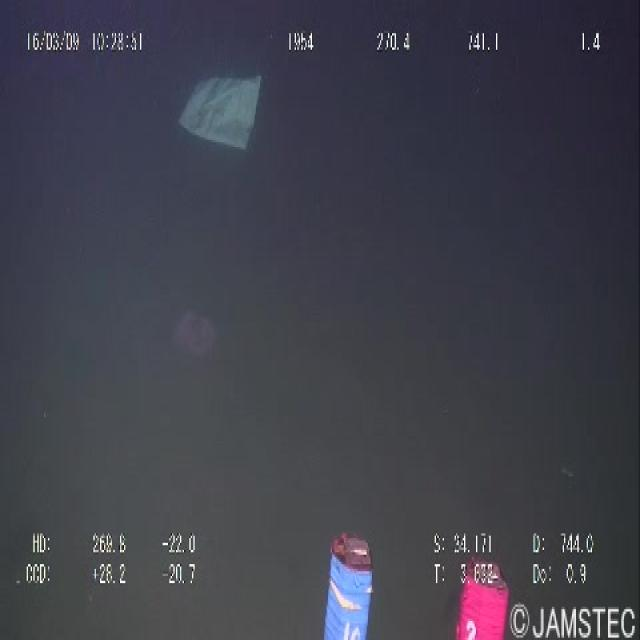plastic: (172, 57, 268, 159)
